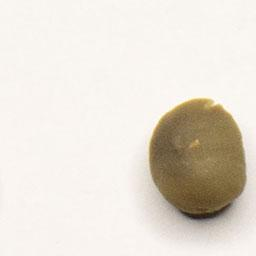peaberry: (143, 91, 250, 222)
